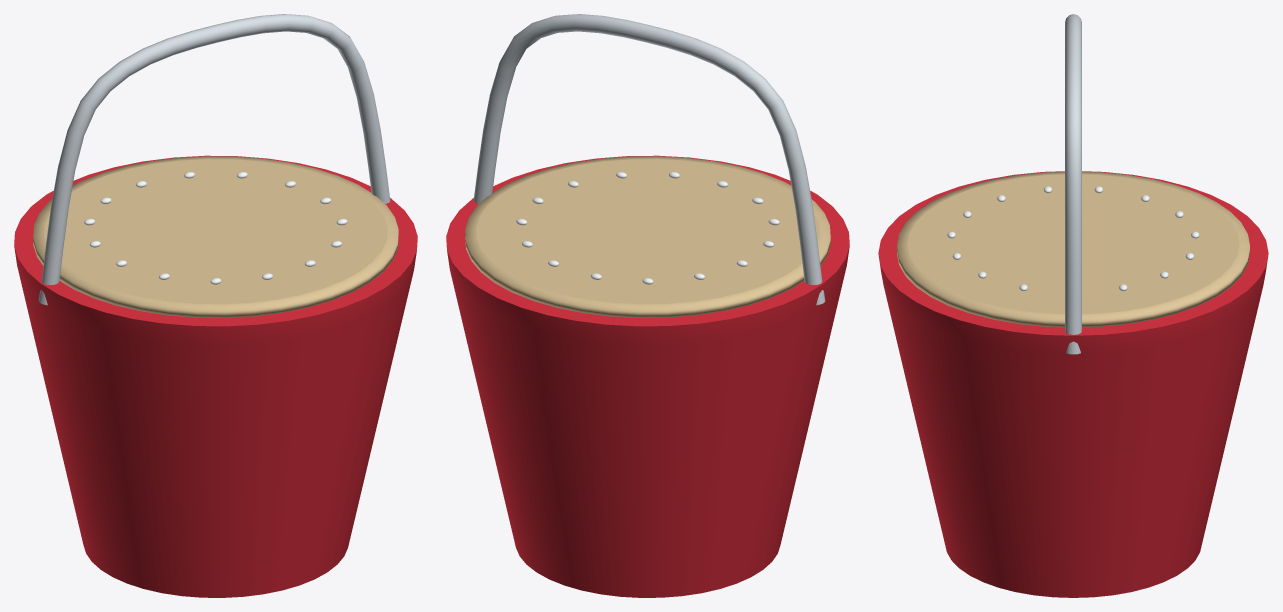
The model's file is fire-sand-bucket.glb.
3 views of the same model, side by side, from view 1: azimuth 30°, elevation 25°; view 2: azimuth 150°, elevation 25°; view 3: azimuth 270°, elevation 25° (orthographic). The views are drawn at different scales.
Parts seen in each view (by area): view 1: fire-sand-bucket; view 2: fire-sand-bucket; view 3: fire-sand-bucket.
Part boxes in pixels (left/top/right/bottom): fire-sand-bucket: left=14, top=14, right=417, bottom=597; fire-sand-bucket: left=446, top=14, right=849, bottom=597; fire-sand-bucket: left=878, top=14, right=1268, bottom=597.
Bounding box in the file's own units: 0.2758 × 0.386 × 0.274.
